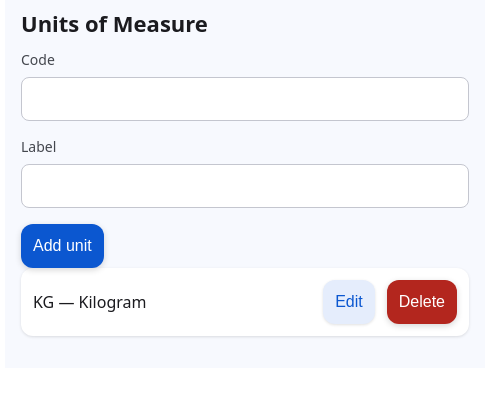
Test: UnitsPage › deletes a unit after confirming
Expected: the text "KG — Kilogram" is shown, [33,291,146,313]
Click the button "Delete".
click(422, 302)  # box [387,280,457,324]
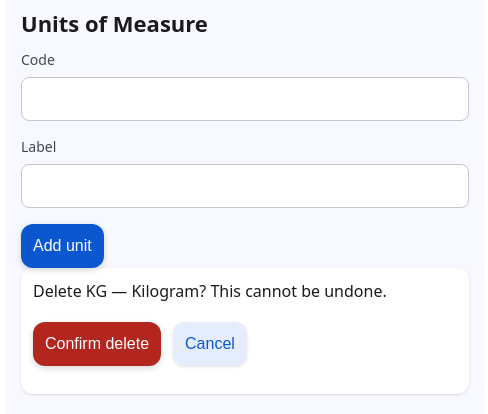
Click the button "Confirm delete".
click(97, 344)  # box [33,322,161,366]
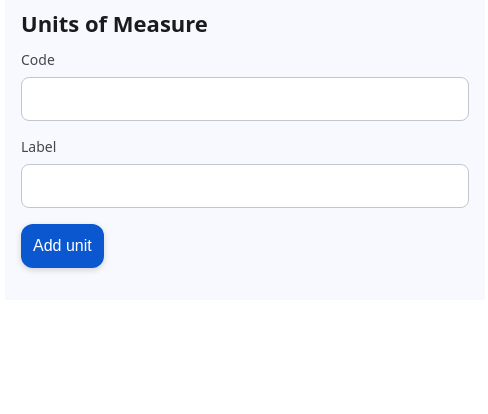
Expected: the text "Delete KG — Kilogram? This cannot be undone." is gone
